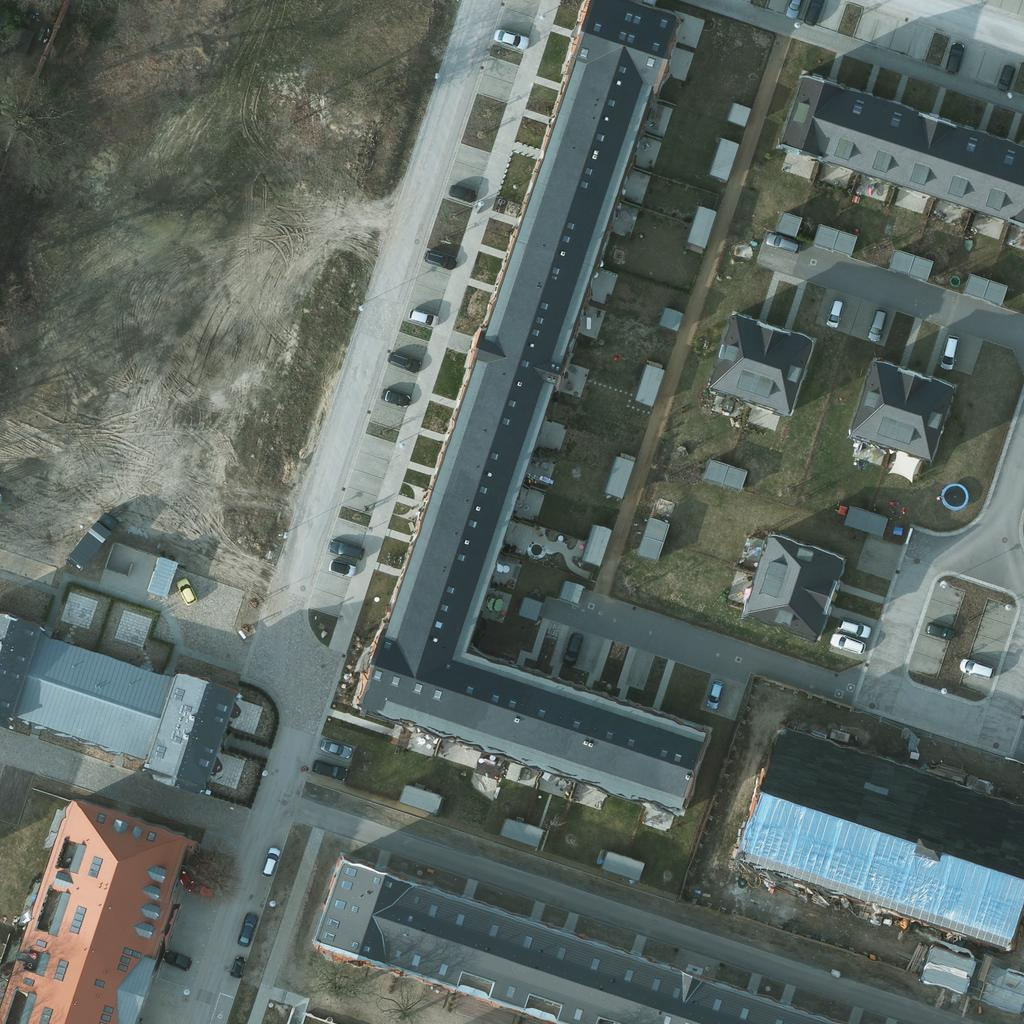car: (490, 19, 524, 53), (937, 41, 971, 75), (986, 60, 1020, 94), (446, 175, 480, 209), (765, 225, 799, 259), (424, 243, 458, 277), (818, 292, 852, 326), (406, 300, 440, 334), (859, 305, 893, 339), (930, 333, 964, 367), (387, 343, 421, 377), (378, 379, 412, 413), (327, 531, 361, 565), (327, 550, 361, 584), (169, 572, 203, 606), (838, 610, 872, 644), (924, 612, 958, 646), (829, 625, 863, 659), (556, 629, 590, 663), (956, 649, 990, 683), (697, 674, 731, 708), (316, 730, 350, 764), (311, 751, 345, 785), (252, 844, 286, 878), (229, 911, 263, 945), (160, 941, 194, 975), (220, 949, 254, 983), (795, 0, 829, 24)
